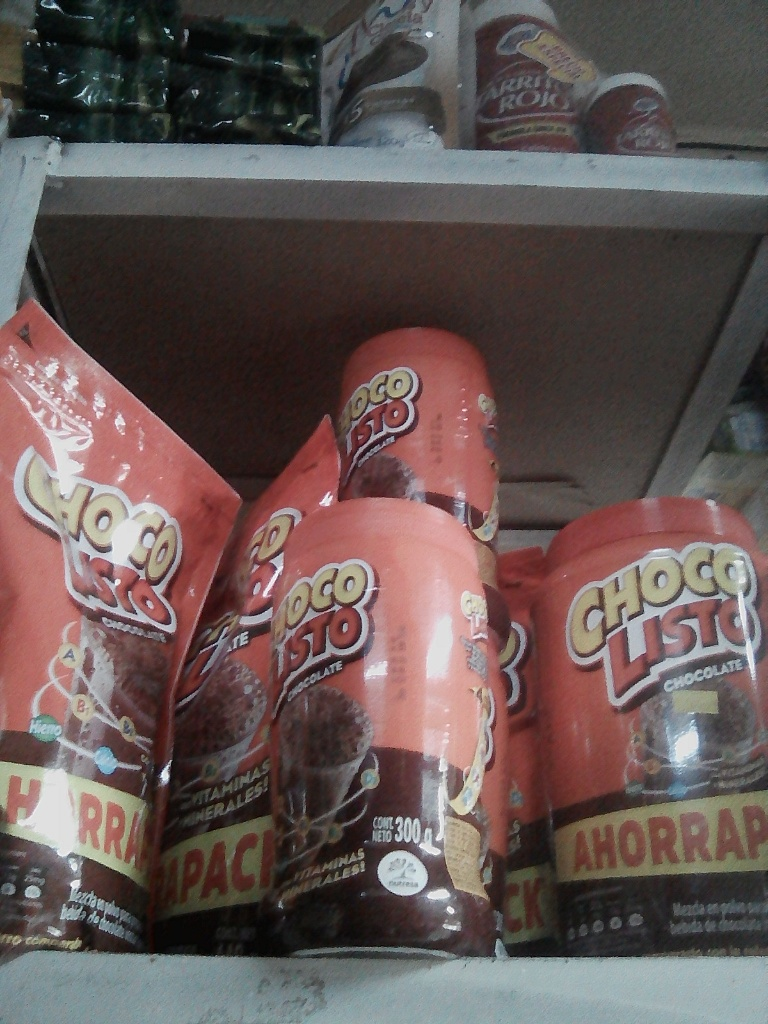COL0170103DYP36000: (2, 302, 167, 951)
COL0170103TRR00100: (542, 498, 766, 955)
COL0170103TRR30000: (266, 496, 497, 958)
